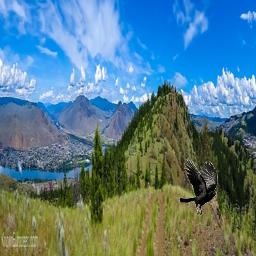Crow: (179, 158, 218, 217)
